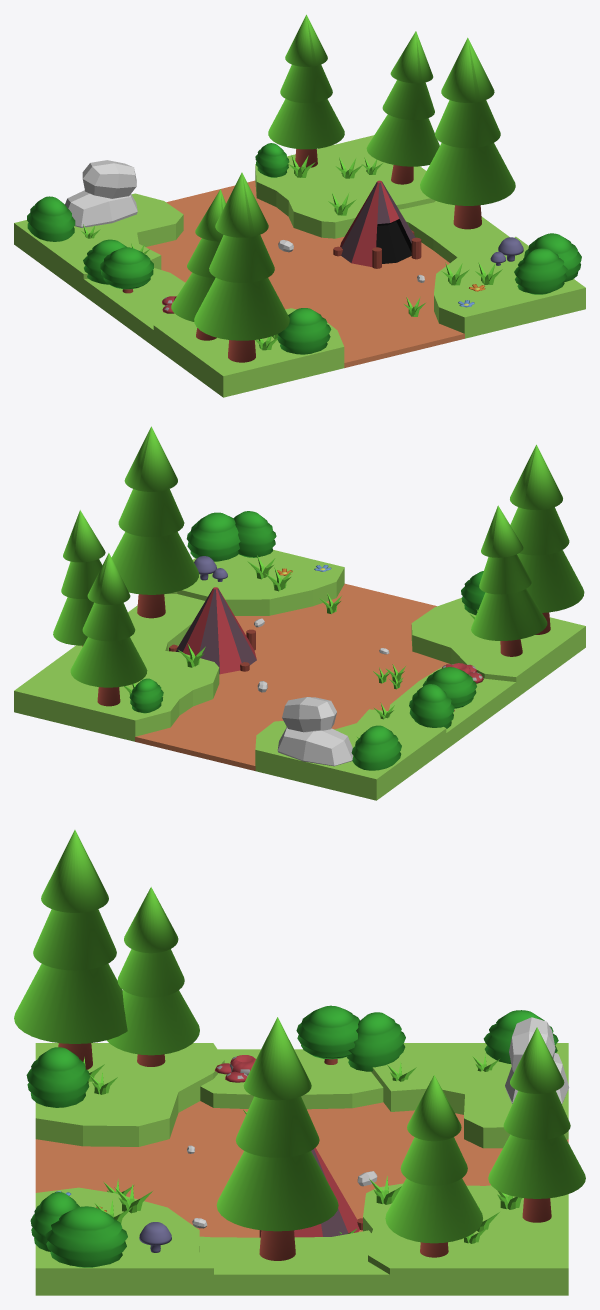
Rendered from jungle level set - 2 Way (3).fbx.
3 renders of one model, top to bottom at view 1: azimuth 30°, elevation 25°; view 2: azimuth 150°, elevation 25°; view 3: azimuth 270°, elevation 25°, orthographic. The views are drawn at different scales.
Visible parts, largest first — view 1: land_platform, tree_001, tree_006, tree, tree_002, camp, tree_005, bush_004, stone, bush_005, tree_004, stone_001 (+4 smaller); view 2: land_platform, tree_001, tree_006, tree, tree_005, camp, tree_002, stone, bush, bush_003, stone_001, bush_001 (+4 smaller); view 3: land_platform, tree_001, tree_006, tree, tree_002, tree_005, bush, bush_005, tree_004, bush_001, camp, bush_003 (+4 smaller).
Part boxes in pixels (x1,y1,x2,y2): land_platform: (14, 135, 585, 397); tree_001: (420, 37, 515, 229); tree_006: (194, 172, 289, 362); tree: (268, 14, 344, 167); tree_002: (366, 31, 439, 184); camp: (333, 180, 421, 268); tree_005: (171, 189, 225, 340); bush_004: (514, 248, 567, 294); stone: (65, 190, 137, 227); bush_005: (277, 308, 331, 354); tree_004: (100, 247, 153, 293); stone_001: (82, 160, 136, 198); land_platform: (14, 549, 585, 800); tree_001: (111, 426, 199, 618); tree_006: (510, 444, 584, 634); tree: (70, 553, 147, 706); tree_005: (471, 505, 547, 656); camp: (169, 587, 256, 674); tree_002: (53, 510, 105, 646); stone: (277, 727, 352, 766); bush: (186, 512, 240, 561); bush_003: (351, 725, 401, 770); stone_001: (282, 697, 336, 732); bush_001: (409, 684, 454, 728); land_platform: (35, 1043, 568, 1295); tree_001: (216, 1017, 338, 1260); tree_006: (14, 830, 127, 1069); tree: (488, 1027, 585, 1222); tree_002: (385, 1075, 482, 1257); tree_005: (107, 887, 199, 1066); bush: (45, 1206, 127, 1267); bush_005: (26, 1047, 89, 1107); tree_004: (296, 1005, 359, 1064); bush_001: (347, 1012, 405, 1071); camp: (259, 1148, 362, 1237); bush_003: (483, 1010, 558, 1063).
Size of the model in its own units: 16.26 by 8.35 by 16.29.
